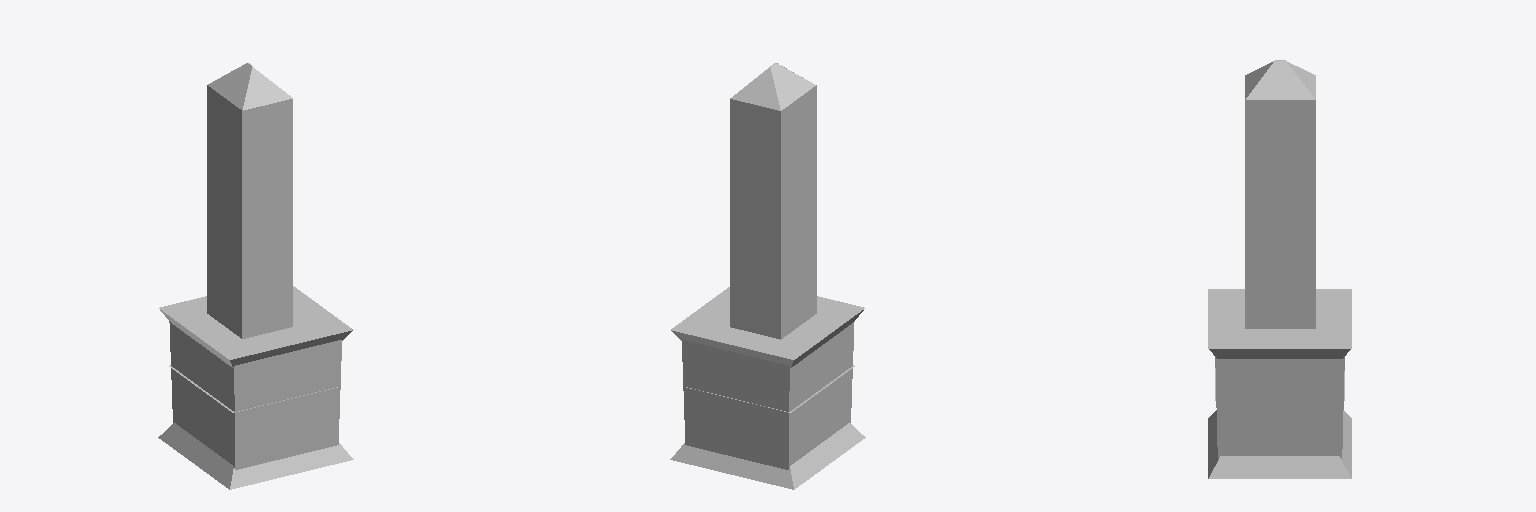
Rendered from Obelisk.obj.
3 renders of one model, left to right at view 1: azimuth 30°, elevation 25°; view 2: azimuth 150°, elevation 25°; view 3: azimuth 270°, elevation 25°, orthographic.
Parts seen in each view (by area): view 1: Cube; view 2: Cube; view 3: Cube.
Part boxes in pixels (left/top/right/bottom): Cube: left=158, top=63, right=353, bottom=489; Cube: left=670, top=63, right=865, bottom=489; Cube: left=1208, top=60, right=1351, bottom=478.
Bounding box in the file's own units: 2 × 5.94 × 2.